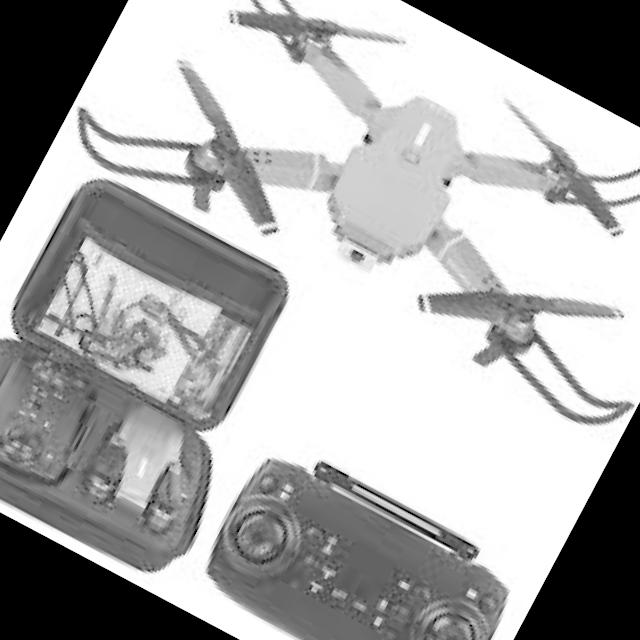drone: (38, 0, 640, 469)
